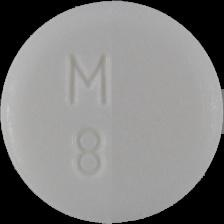33342-055: (0, 0, 224, 224)
